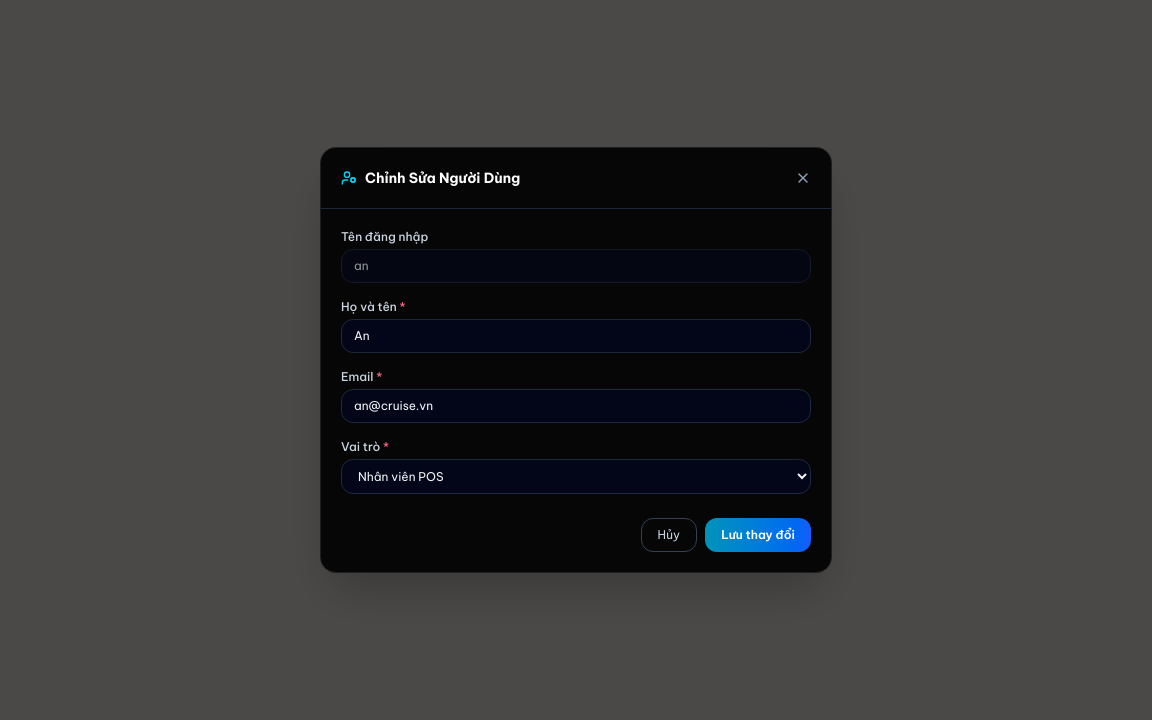
Test: UserFormModal validation and error messages › shows the server error message when submit fails
This screenshot has width=1152, height=720.
Click the button "Lưu thay đổi". click: {"x": 758, "y": 535}
box: [705,518,811,552]
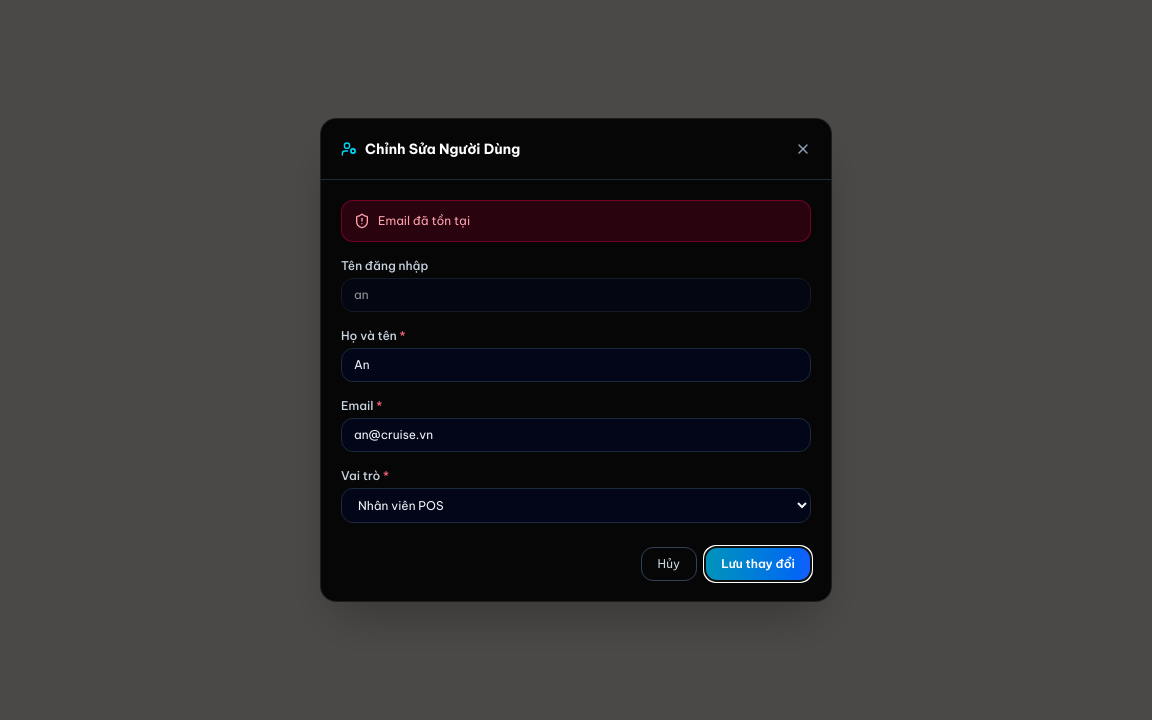
Check: the message reads "Email đã tồn tại", box [378,213,470,228]
